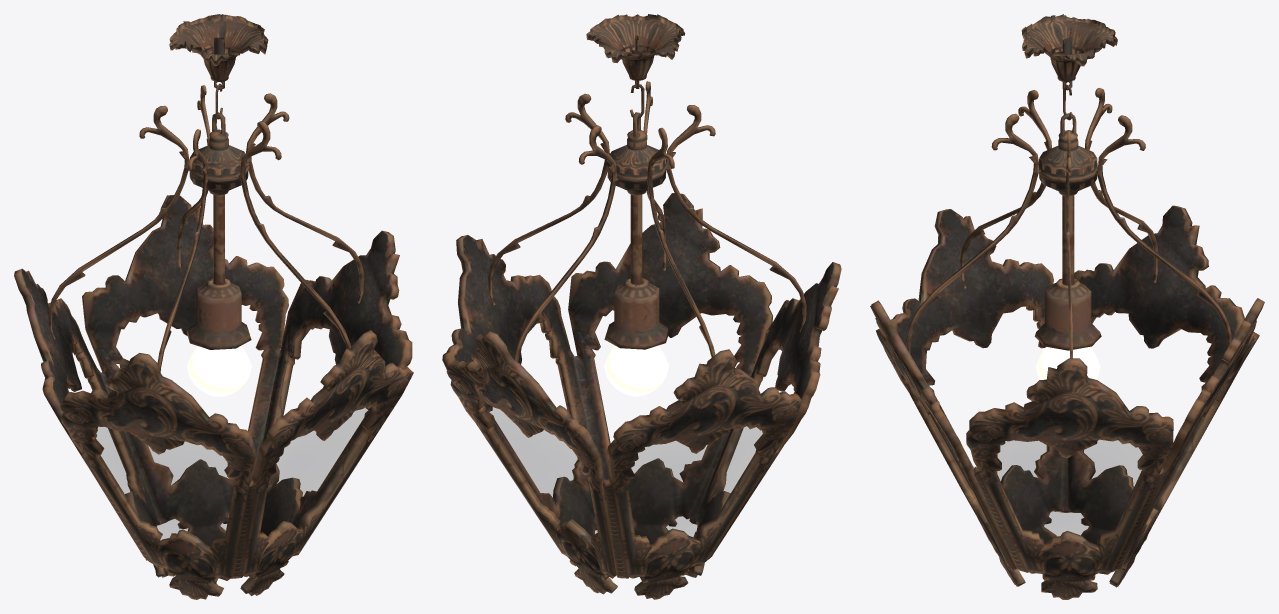
File: lantern_chandelier_01.glb
3 views of the same model, side by side, from view 1: azimuth 30°, elevation 25°; view 2: azimuth 150°, elevation 25°; view 3: azimuth 270°, elevation 25° (orthographic).
Visible parts, largest first — view 1: lantern_chandelier_01; view 2: lantern_chandelier_01; view 3: lantern_chandelier_01.
Boxes of the visible parts, x1=… form: lantern_chandelier_01: x1=14, y1=14, x2=413, y2=599; lantern_chandelier_01: x1=442, y1=14, x2=841, y2=599; lantern_chandelier_01: x1=870, y1=14, x2=1264, y2=599.
Size of the model in its own units: 0.5792 by 0.8776 by 0.5746.
3 materials, 2 textured.
